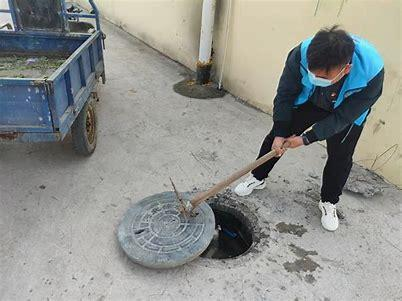wellcover: (119, 181, 273, 281)
